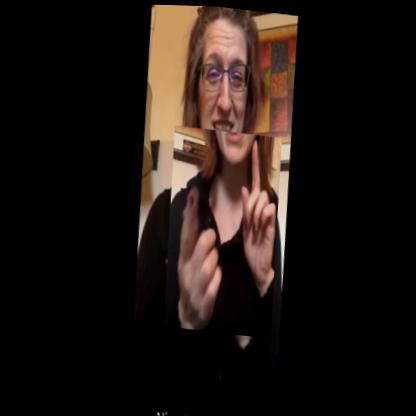NiceToMeetYou: (157, 125, 286, 337)
